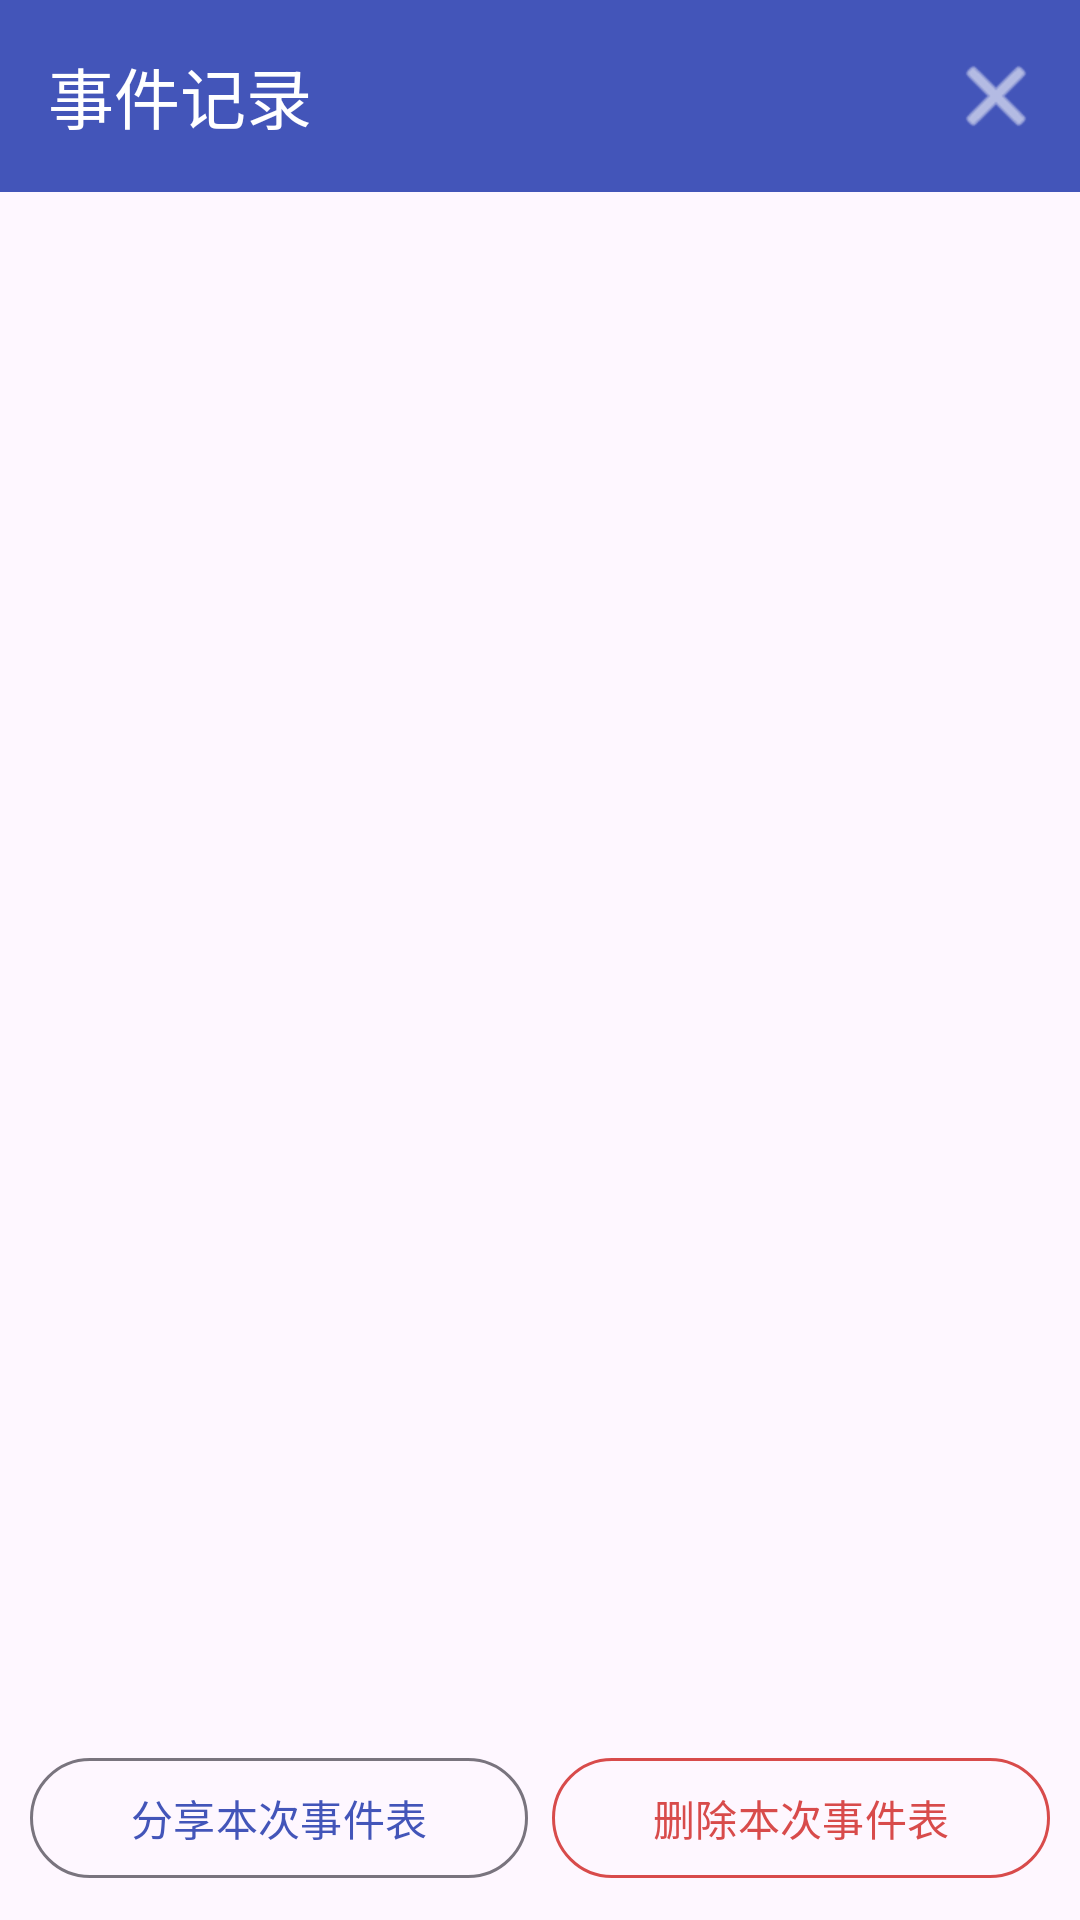

Named icons in this screenshot (1080*1920) and their centers, (x,y):
取消: (996,96)
